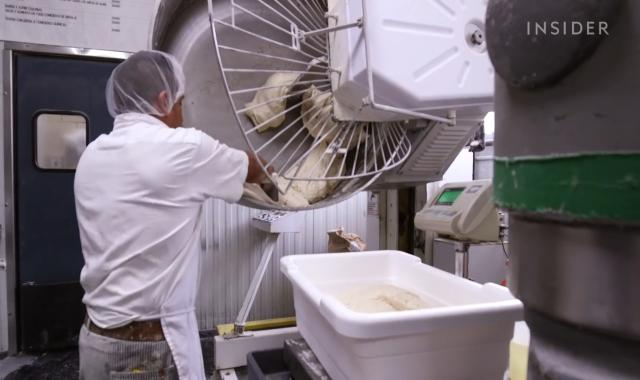hairnet: (104, 51, 188, 121)
